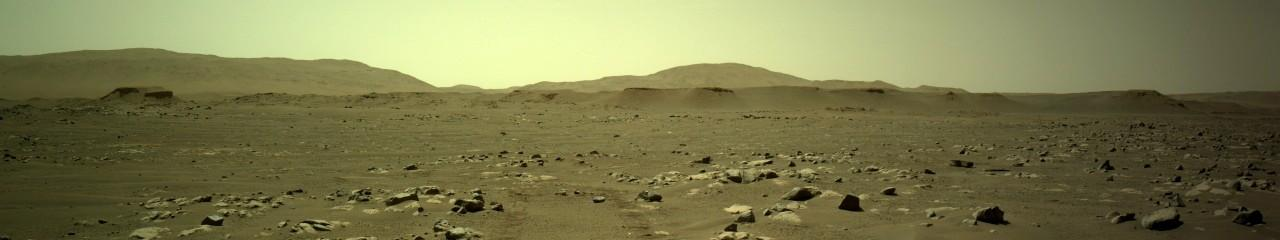bedrock: (6, 99, 1276, 239)
big_rock: (103, 82, 175, 101)
soil: (5, 181, 12, 234), (1045, 115, 1117, 117)
